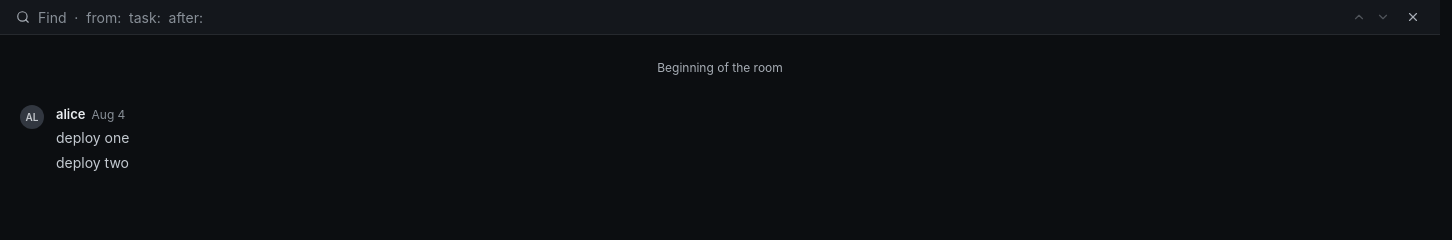
Test: <EventStream /> find in the channel › steps between matches with wrap-around
Type "deploy" into the field named "Find in the channel".
click(685, 17); type("deploy")  # box [38,6,1332,28]
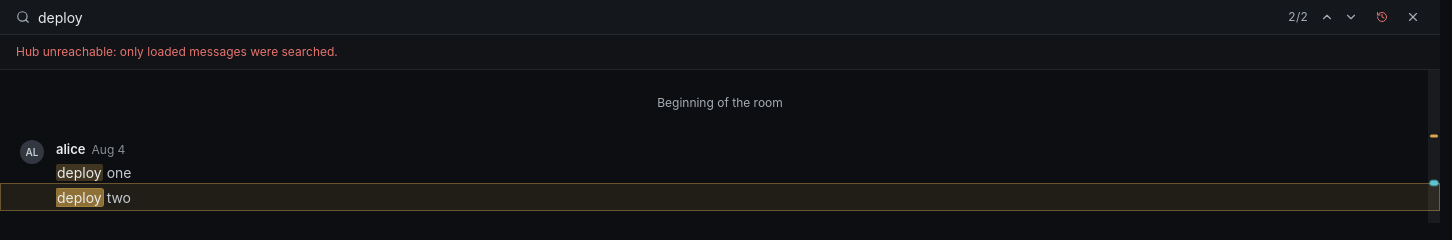
Expected: the text "2/2" is shown, [1288,8,1308,26]
Click the button named "Next match".
click(1351, 17)  # box [1340,6,1362,28]
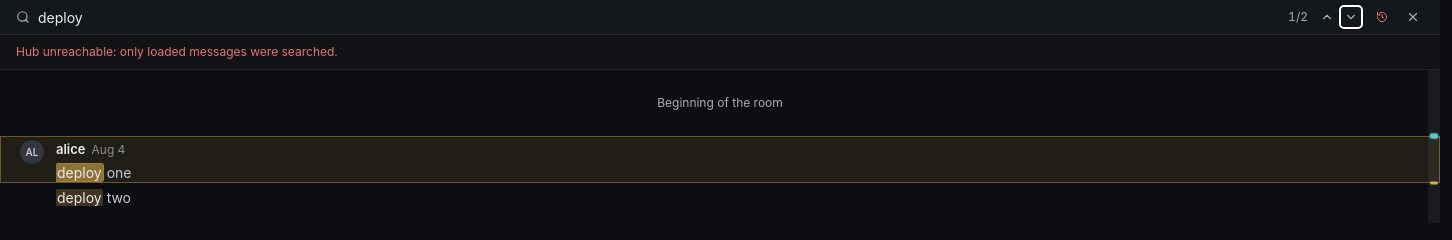
Expected: the text "1/2" is shown, [1288,8,1308,26]
Click the button named "Previous match".
click(1327, 17)  # box [1316,6,1338,28]
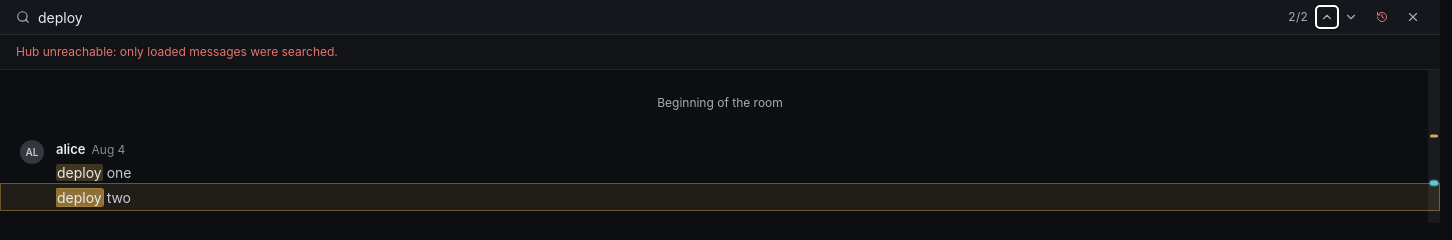
Expected: the text "2/2" is shown, [1288,8,1308,26]
